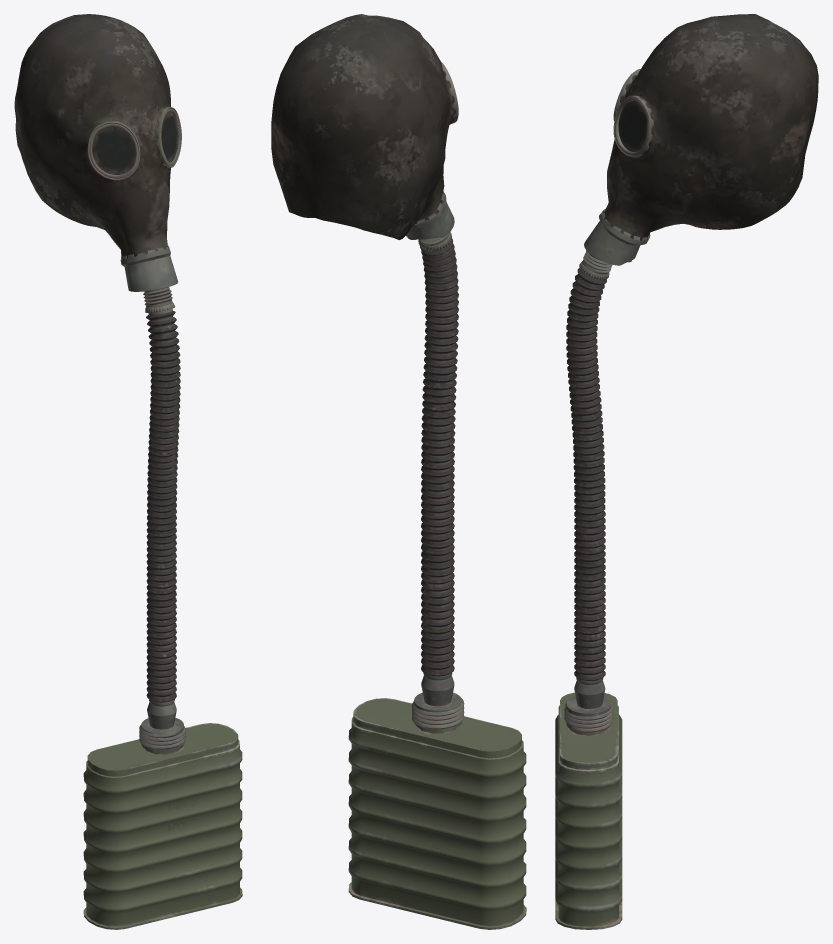
Rendered from old_gas_mask.glb.
3 renders of one model, left to right at view 1: azimuth 30°, elevation 25°; view 2: azimuth 150°, elevation 25°; view 3: azimuth 270°, elevation 25°, orthographic. The views are drawn at different scales.
Parts seen in each view (by area): view 1: old_gas_mask; view 2: old_gas_mask; view 3: old_gas_mask.
Boxes of the visible parts, x1,y1,x2,y2 form: old_gas_mask: (14,14,242,929); old_gas_mask: (271,14,526,929); old_gas_mask: (555,14,818,929).
Size of the model in its own units: 0.2105 by 1.13 by 0.3087.
1 material, 1 textured.
